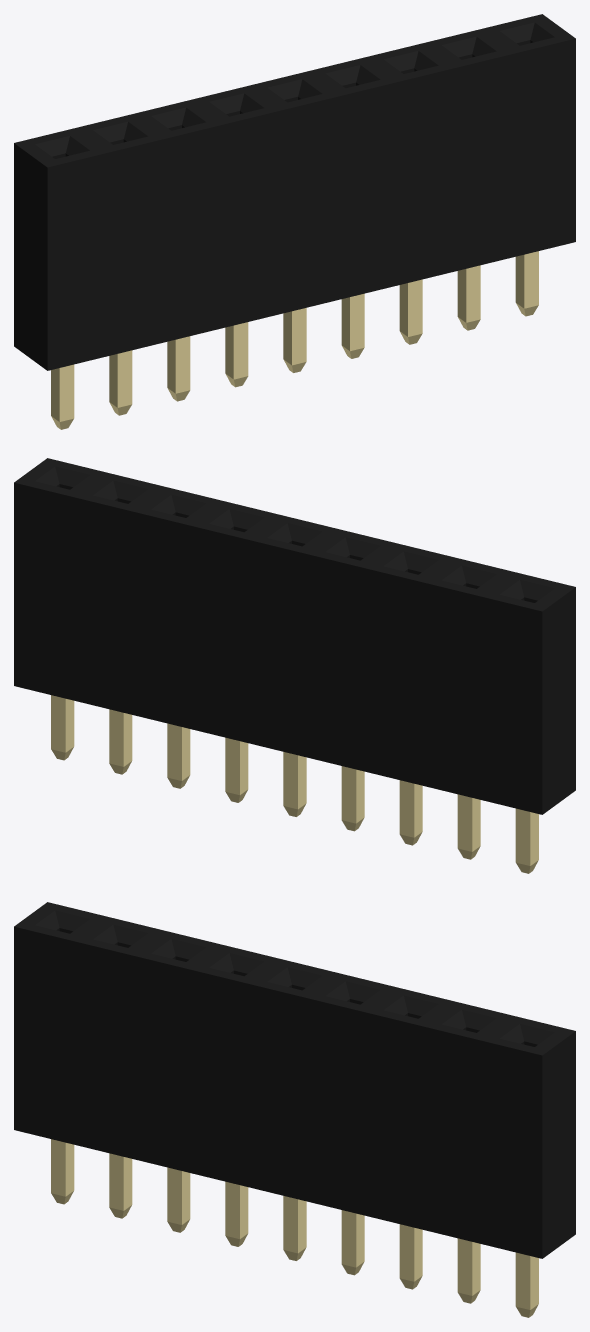
File: sfe-1x09_pth_2.54mm_8.5mm.glb
3 views of the same model, one above another, from view 1: azimuth 30°, elevation 25°; view 2: azimuth 150°, elevation 25°; view 3: azimuth 330°, elevation 25° (orthographic).
Parts seen in each view (by area): view 1: 0_0_0_0, 0.9166666666666666_0.75_0.4166666666666667_0.9; view 2: 0_0_0_0, 0.9166666666666666_0.75_0.4166666666666667_0.9; view 3: 0_0_0_0, 0.9166666666666666_0.75_0.4166666666666667_0.9.
Part boxes in pixels (left/top/right/bottom): 0_0_0_0: left=14, top=14, right=575, bottom=370; 0.9166666666666666_0.75_0.4166666666666667_0.9: left=51, top=251, right=538, bottom=429; 0_0_0_0: left=14, top=458, right=575, bottom=814; 0.9166666666666666_0.75_0.4166666666666667_0.9: left=51, top=695, right=538, bottom=873; 0_0_0_0: left=14, top=902, right=575, bottom=1258; 0.9166666666666666_0.75_0.4166666666666667_0.9: left=51, top=1139, right=538, bottom=1317.
Bounding box in the file's own units: 2.31 × 1.17 × 0.2539.
